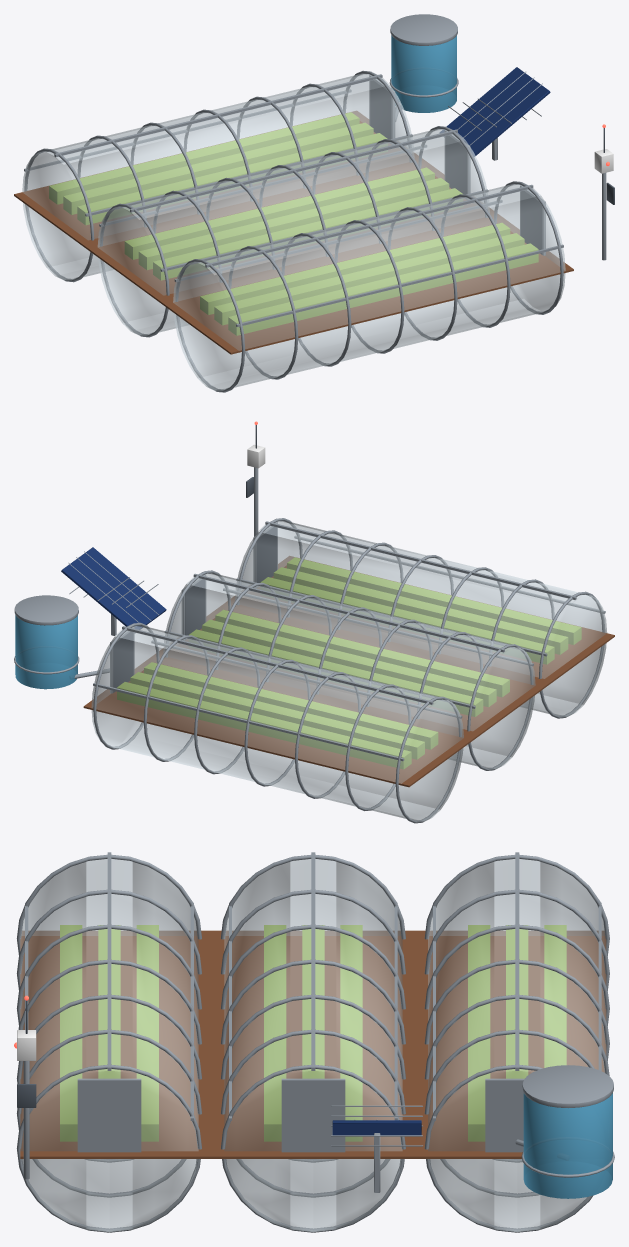
The model's file is smartfarm.glb.
3 views of the same model, one above another, from view 1: azimuth 30°, elevation 25°; view 2: azimuth 150°, elevation 25°; view 3: azimuth 270°, elevation 25° (orthographic). The views are drawn at different scales.
Visible parts, largest first — view 1: Greenhouses, WaterTank, SolarPanel, SensorPole; view 2: Greenhouses, WaterTank, SolarPanel, SensorPole; view 3: Greenhouses, WaterTank, SolarPanel, SensorPole.
Part boxes in pixels (<box>): Greenhouses: <box>14,70,573,392</box>; WaterTank: <box>389,14,458,121</box>; SolarPanel: <box>440,67,550,160</box>; SensorPole: <box>594,124,614,260</box>; Greenhouses: <box>83,518,614,823</box>; WaterTank: <box>14,595,109,689</box>; SolarPanel: <box>61,547,166,635</box>; SensorPole: <box>246,421,265,536</box>; Greenhouses: <box>16,852,609,1232</box>; WaterTank: <box>515,1065,614,1198</box>; SolarPanel: <box>331,1105,422,1192</box>; SensorPole: <box>14,995,36,1179</box>.
Bounding box in the file's own units: 10.67 × 4.61 × 9.43.
